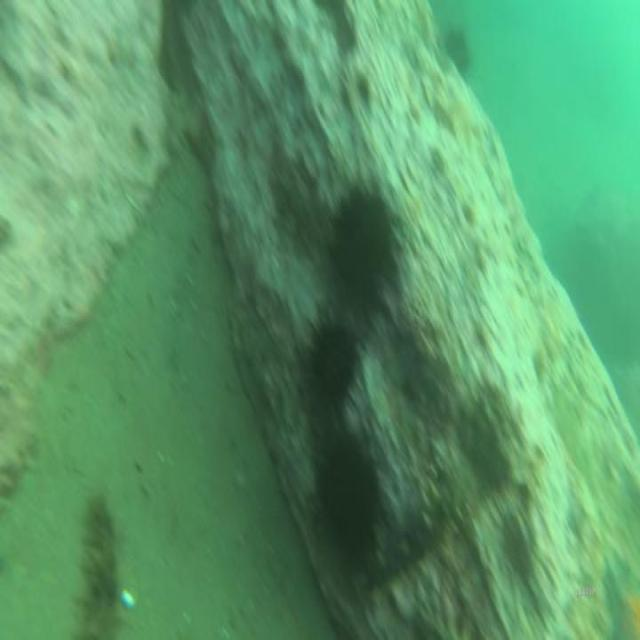echinus: (318, 171, 412, 330), (297, 422, 397, 570), (299, 298, 377, 424)
starfish: (595, 539, 640, 640)
